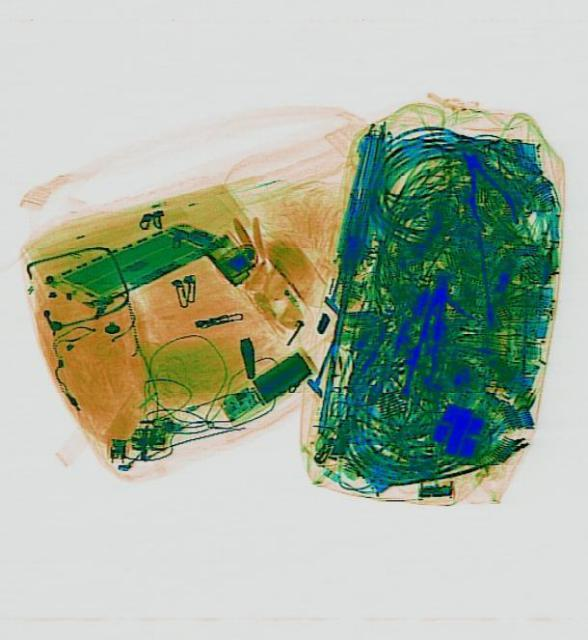Pliers: (442, 136, 520, 236), (398, 274, 455, 398)
